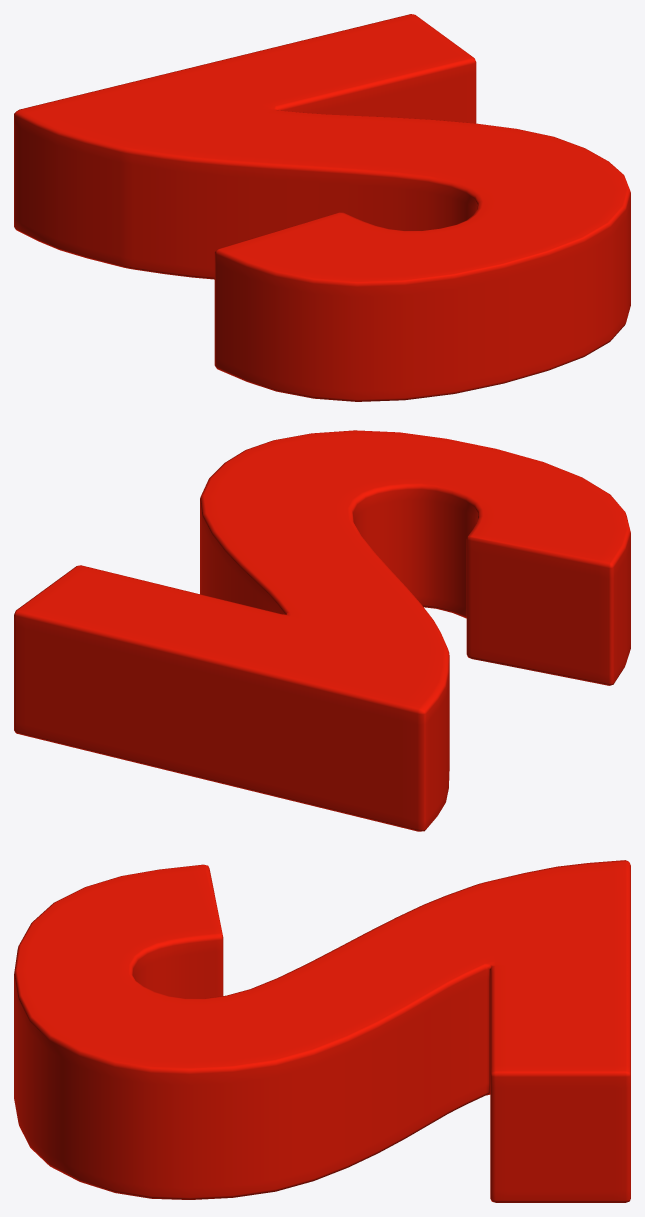
3 renders of one model, top to bottom at view 1: azimuth 30°, elevation 25°; view 2: azimuth 150°, elevation 25°; view 3: azimuth 270°, elevation 25°, orthographic. The views are drawn at different scales.
Parts seen in each view (by area): view 1: Two_lambert1_0; view 2: Two_lambert1_0; view 3: Two_lambert1_0.
Part boxes in pixels (box(x1,y1,x2,y2)): Two_lambert1_0: box(14, 14, 630, 401); Two_lambert1_0: box(14, 430, 630, 831); Two_lambert1_0: box(14, 860, 630, 1202).
Size of the model in its own units: 1.78 by 0.5095 by 2.16.
